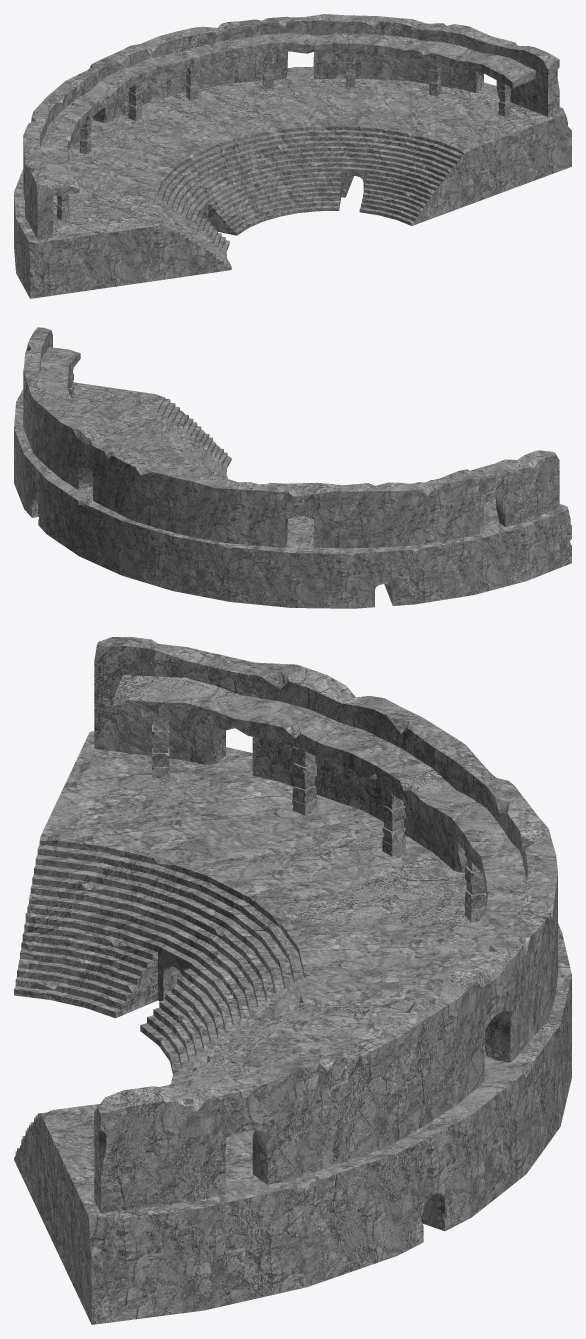
File: materials_3_building_11.fbx
3 renders of one model, top to bottom at view 1: azimuth 30°, elevation 25°; view 2: azimuth 150°, elevation 25°; view 3: azimuth 270°, elevation 25°, orthographic. The views are drawn at different scales.
Visible parts, largest first — view 1: materials_3_building_11; view 2: materials_3_building_11; view 3: materials_3_building_11.
Boxes of the visible parts, x1,y1,x2,y2 form: materials_3_building_11: [14, 14, 571, 298]; materials_3_building_11: [14, 327, 571, 608]; materials_3_building_11: [14, 637, 571, 1324].
Bounding box in the file's own units: 5207 × 1041 × 2482.
